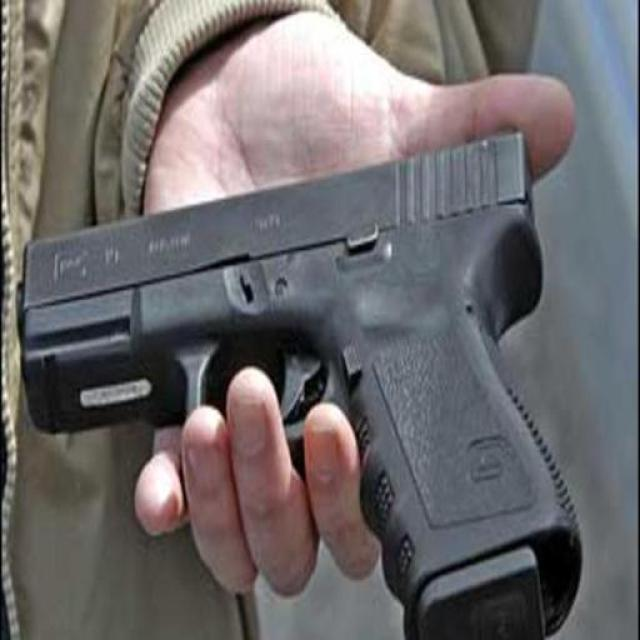pistol: (22, 120, 576, 630)
